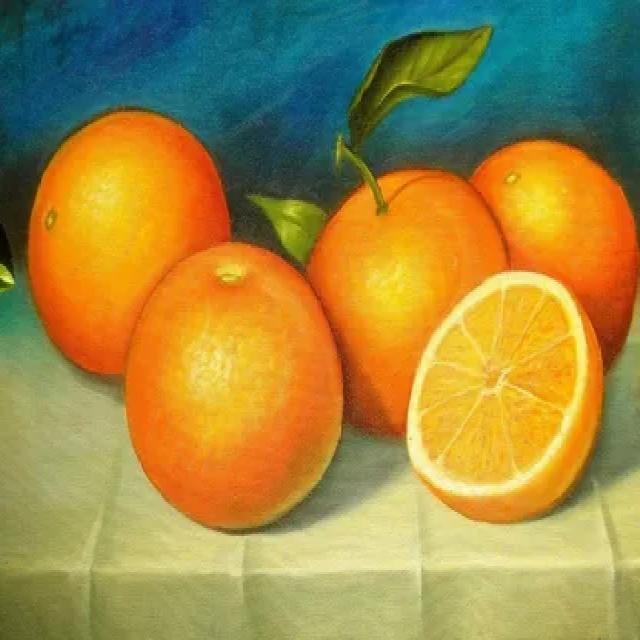orange: (116, 227, 344, 533)
